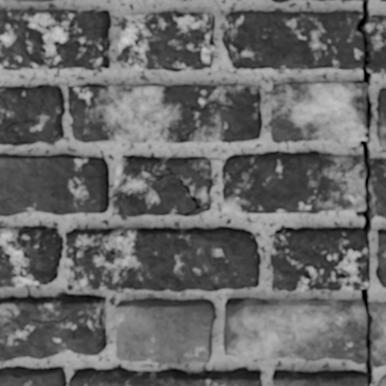brick: (65, 227, 259, 292), (67, 84, 261, 142), (0, 294, 106, 360), (0, 9, 110, 69), (0, 154, 108, 215), (115, 298, 214, 363), (271, 227, 368, 290), (112, 156, 212, 215), (271, 81, 366, 142), (117, 11, 214, 70), (0, 226, 62, 286), (0, 85, 63, 144), (68, 368, 260, 385), (273, 370, 366, 385), (0, 366, 66, 385), (376, 230, 385, 287), (377, 89, 385, 146), (378, 375, 385, 385), (22, 0, 47, 1), (272, 0, 287, 1)
broken_brick: (223, 296, 365, 365), (221, 150, 364, 214), (221, 9, 362, 70), (366, 14, 385, 74), (369, 301, 385, 368), (370, 157, 385, 218)
crack: (354, 0, 383, 385), (140, 166, 201, 216), (70, 230, 84, 274), (13, 140, 26, 145)
